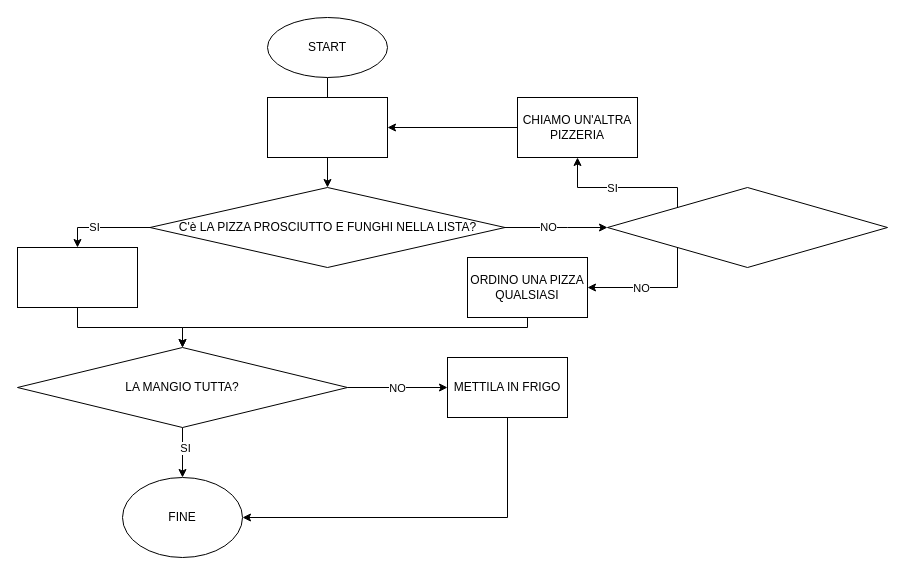
The diagram is 905 pixels wide and 575 high, and some of its shapes have lost their labels. Here are the shapes that lost their labels. From the top down, the centre of each, then its label:
At point (327, 127): "CONTROLLO IL LISTINO DELLE PIZZE".
At point (747, 227): "HO ALTRE PIZZERIE DA CHIAMARE?".
At point (77, 277): "ORDINALA".
